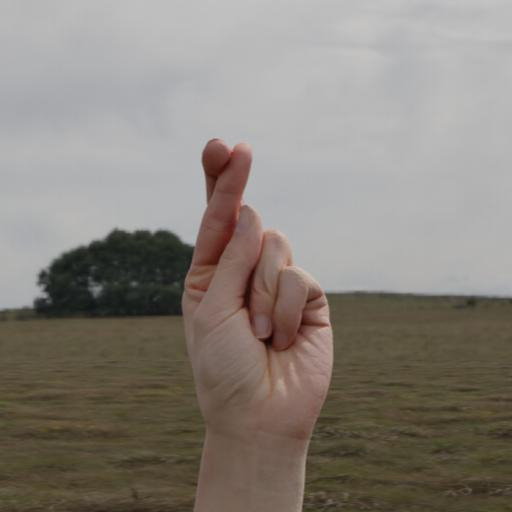R: (164, 122, 397, 469)
